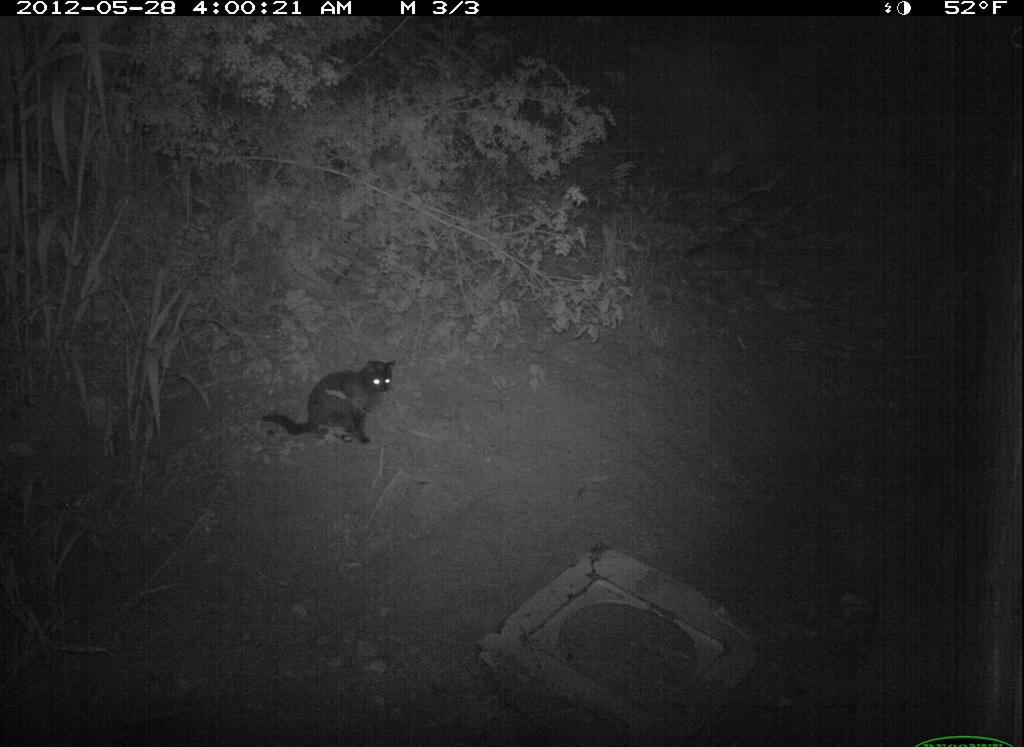cat: (253, 350, 413, 460)
